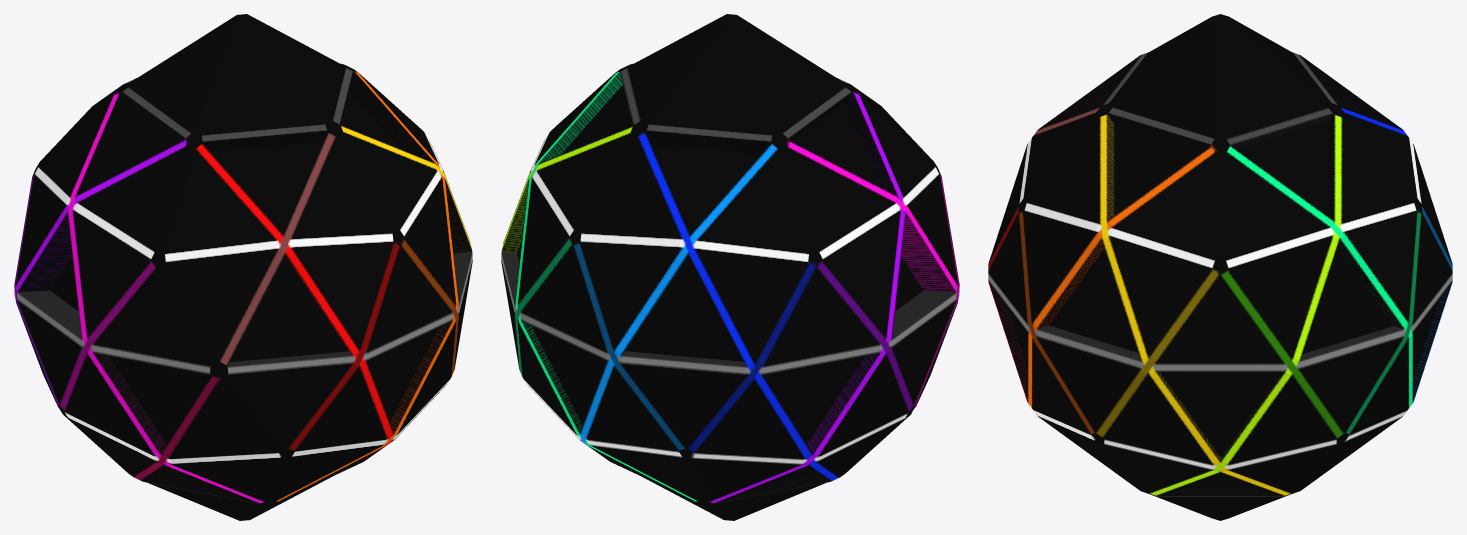
File: SeviDemon.gltf
3 renders of one model, left to right at view 1: azimuth 30°, elevation 25°; view 2: azimuth 150°, elevation 25°; view 3: azimuth 270°, elevation 25°, orthographic.
Parts seen in each view (by area): view 1: Icosphere; view 2: Icosphere; view 3: Icosphere.
Part boxes in pixels (x1,y1,x2,y2): Icosphere: [14, 14, 472, 520]; Icosphere: [501, 14, 959, 520]; Icosphere: [988, 14, 1452, 520].
Bounding box in the file's own units: 1.9 × 2.34 × 1.97.
1 material, 1 textured.
